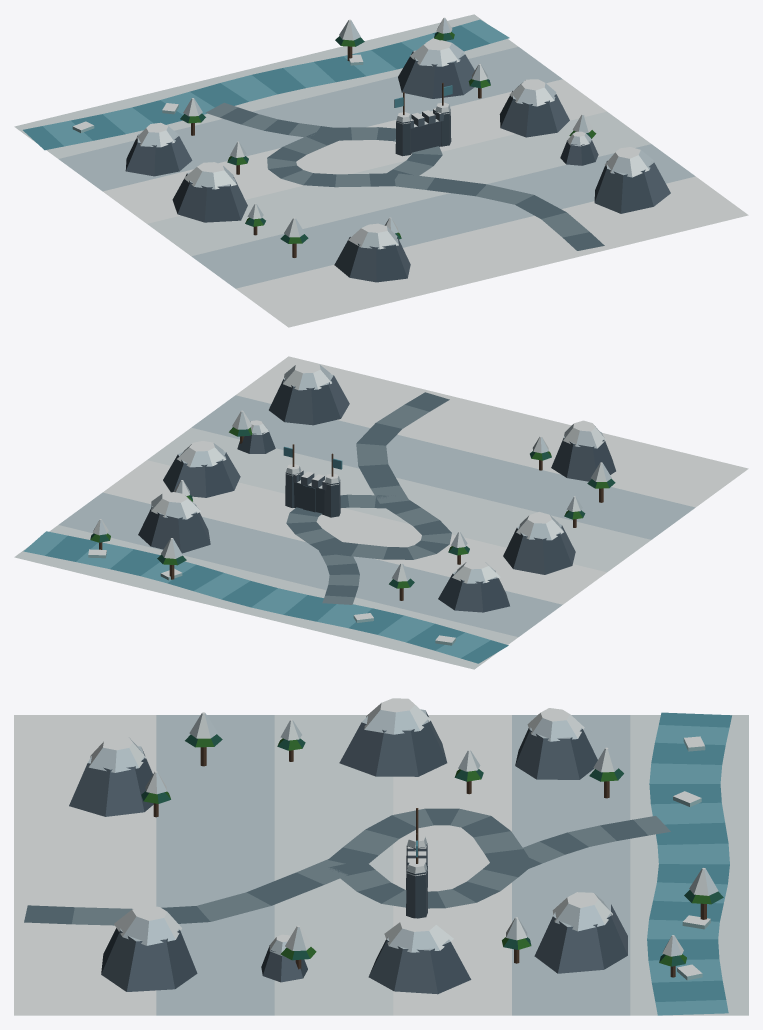
File: terrain_snow.fbx
3 renders of one model, top to bottom at view 1: azimuth 30°, elevation 25°; view 2: azimuth 150°, elevation 25°; view 3: azimuth 270°, elevation 25°, orthographic. The views are drawn at different scales.
Parts seen in each view (by area): view 1: v32_terrain_snow; view 2: v32_terrain_snow; view 3: v32_terrain_snow.
Boxes of the visible parts, left/top/right/bottom form: v32_terrain_snow: left=14, top=14, right=748, bottom=327; v32_terrain_snow: left=14, top=356, right=748, bottom=669; v32_terrain_snow: left=14, top=698, right=748, bottom=1015.
Bounding box in the file's own units: 30.25 × 3.73 × 31.
